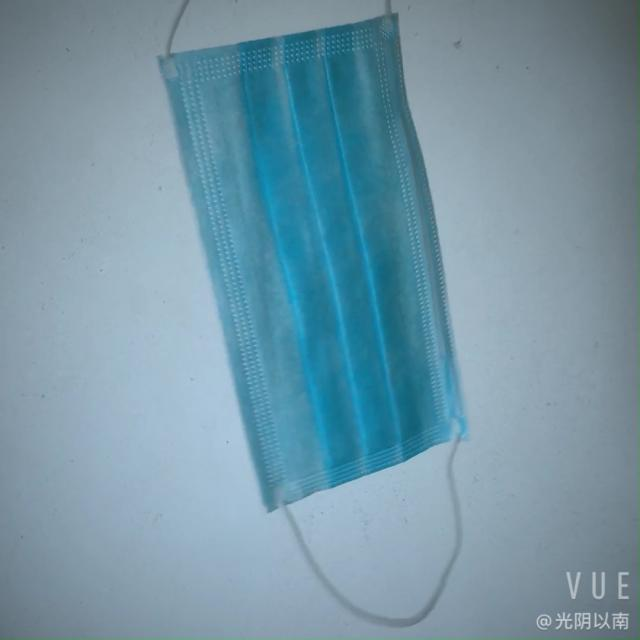face mask: (147, 4, 457, 528)
